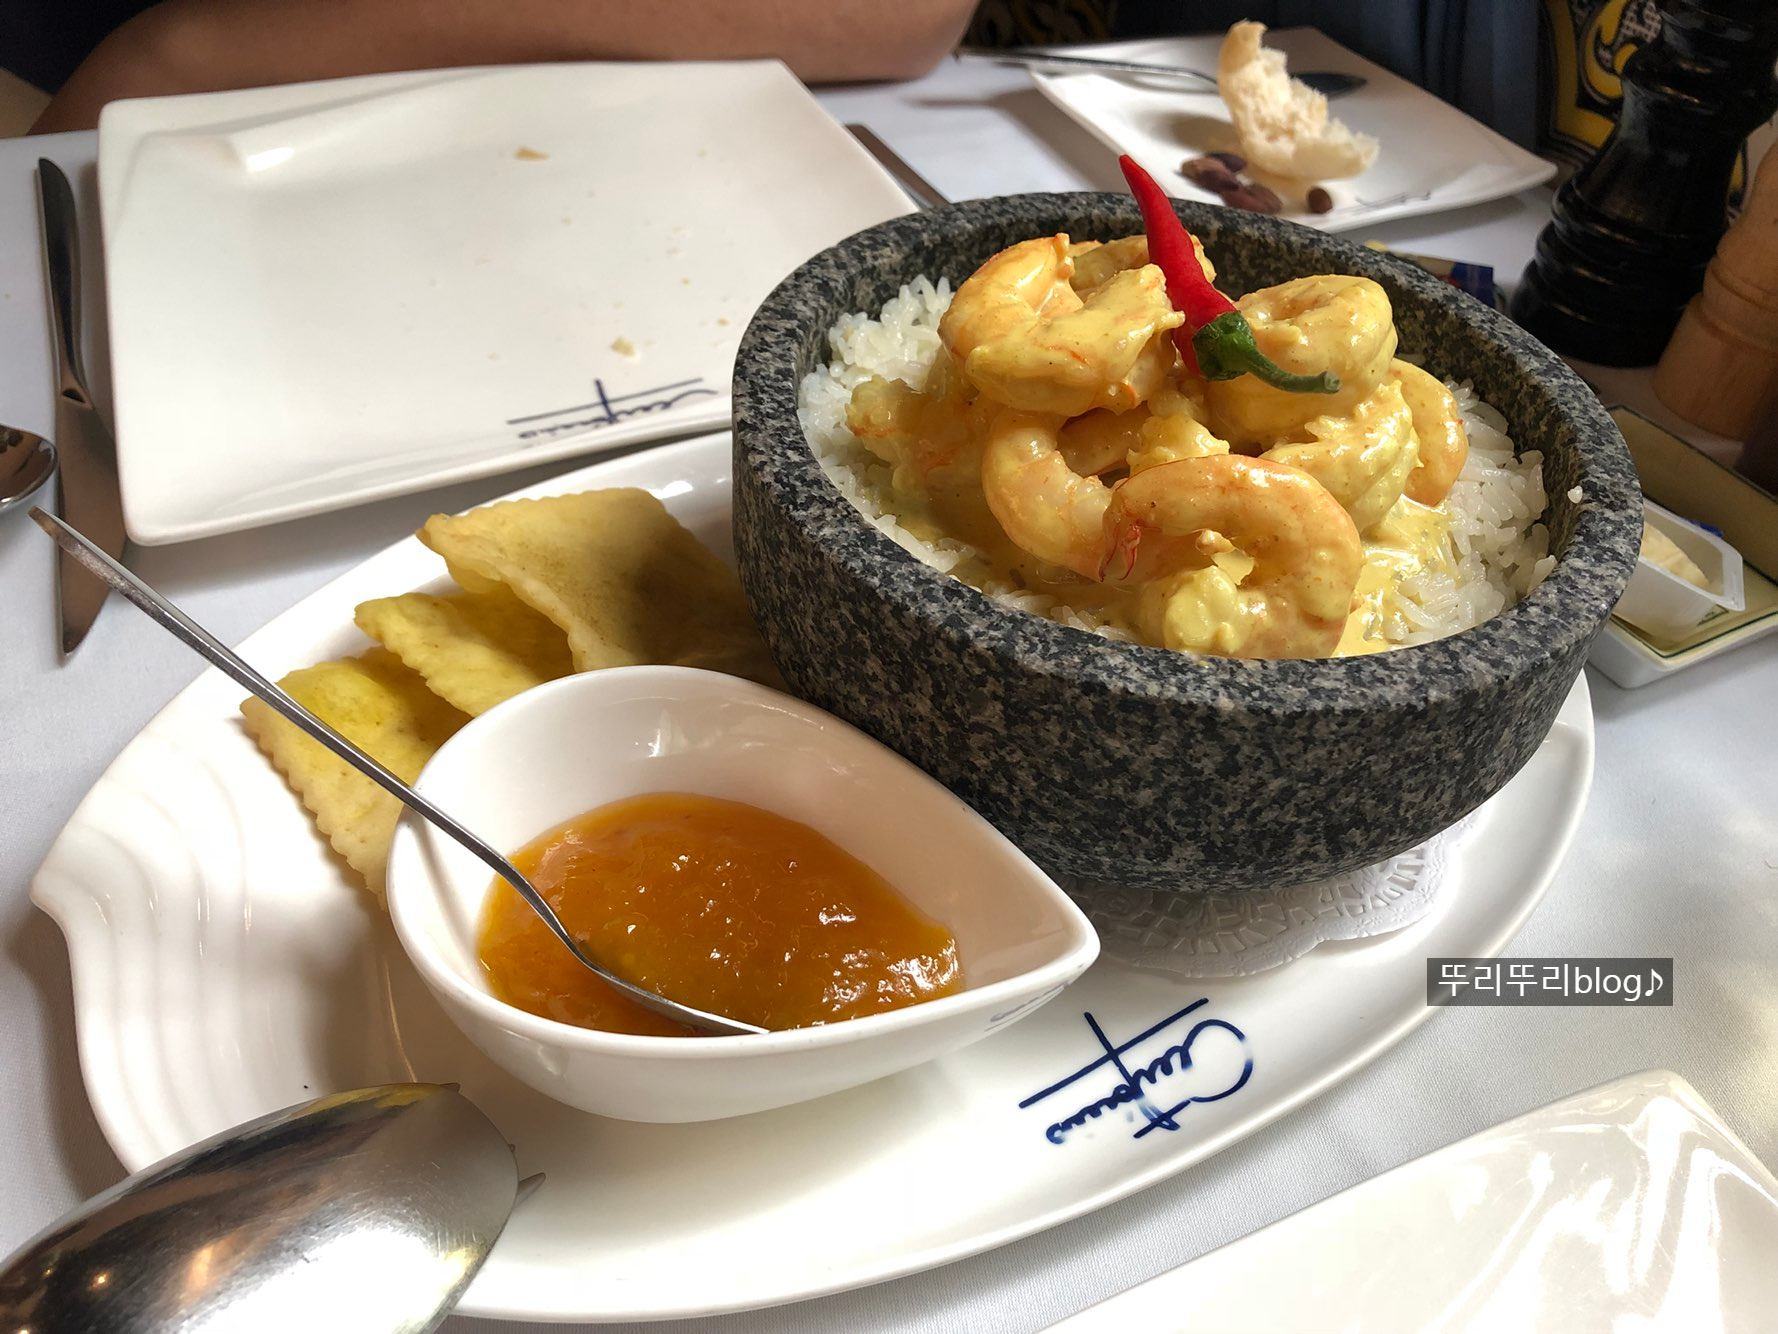plain rice: (1393, 525, 1520, 635)
